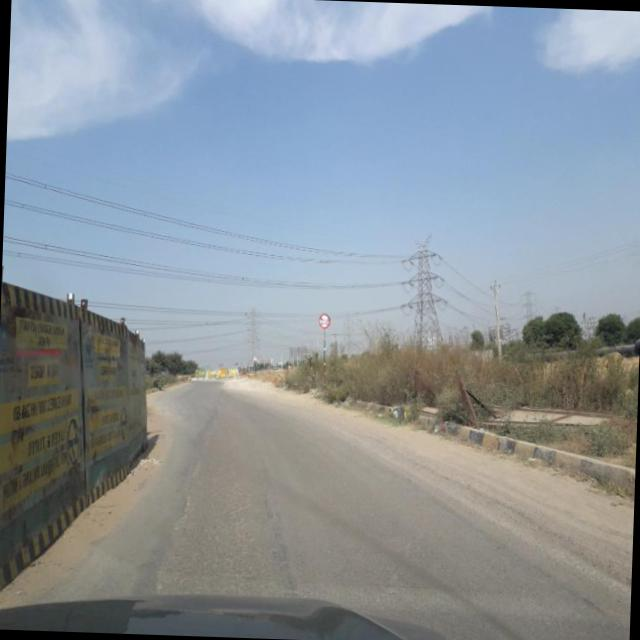crack: (162, 456, 292, 596), (169, 432, 210, 538)
